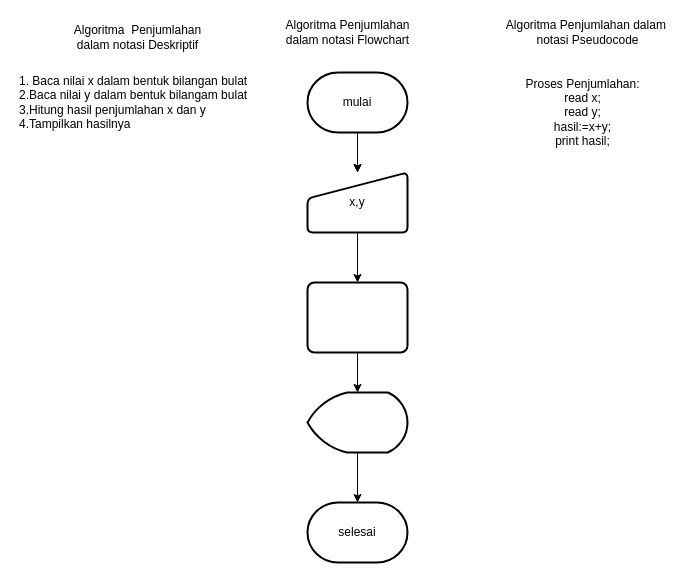
Image size: 694x580. Some labels were removed from this diagram. The shapes that lost their labels are listed below. From the top down, each one's centre as x and y in pixels, then its label:
point 357,317: hasil = x+y
point 357,422: hasil
